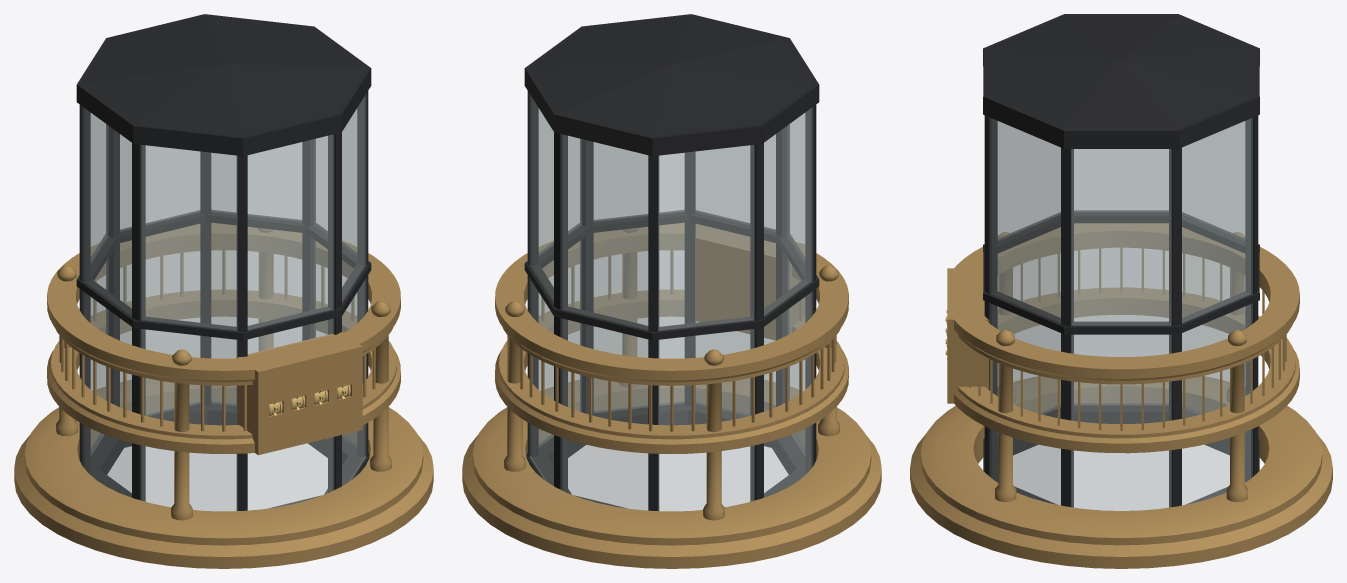
File: glass_tower.glb
The picture shows the model from 3 angles, left to right: view 1: azimuth 30°, elevation 25°; view 2: azimuth 150°, elevation 25°; view 3: azimuth 270°, elevation 25°; orthographic projection.
Parts seen in each view (by area): view 1: tower_glass, glass_static; view 2: tower_glass, glass_static; view 3: tower_glass, glass_static.
Part boxes in pixels (x1,y1,x2,y2): tower_glass: (76,14,371,510); glass_static: (14,223,433,568); tower_glass: (524,14,819,510); glass_static: (462,223,881,568); tower_glass: (983,14,1259,510); glass_static: (910,223,1332,568).
Bounding box in the file's own units: 3.2 × 3.5 × 3.2.
